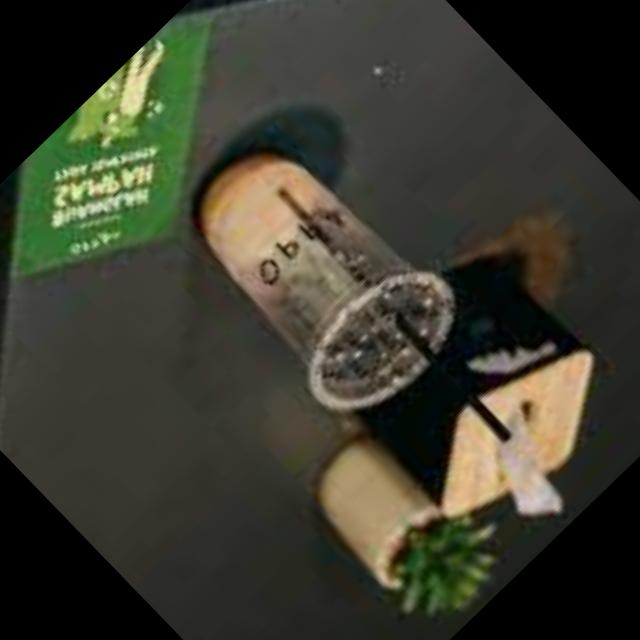GelasPlastik: (155, 112, 483, 444)
